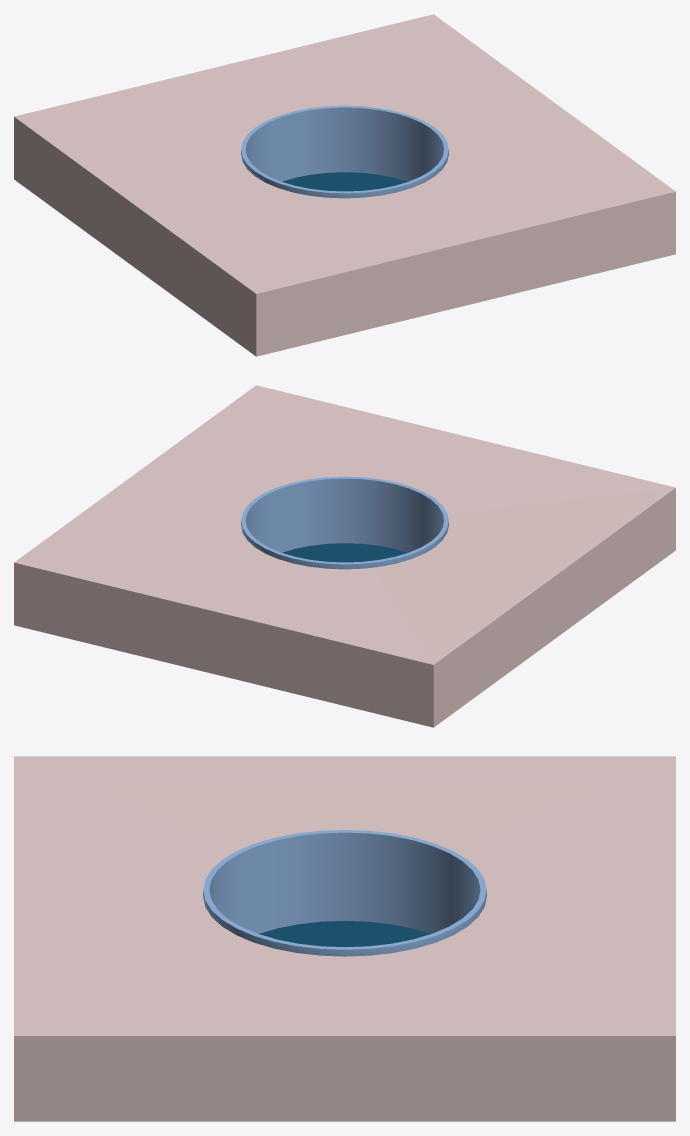
The model's file is platform_circular_V0.fbx.
The picture shows the model from 3 angles, top to bottom: view 1: azimuth 30°, elevation 25°; view 2: azimuth 150°, elevation 25°; view 3: azimuth 270°, elevation 25°; orthographic projection. The views are drawn at different scales.
Visible parts, largest first — view 1: çember; view 2: çember; view 3: çember.
Part boxes in pixels (box(x1,y1,x2,y2)): çember: box(14, 14, 675, 356); çember: box(14, 385, 675, 727); çember: box(14, 756, 675, 1121).
Size of the model in its own units: 700 by 107 by 700.
